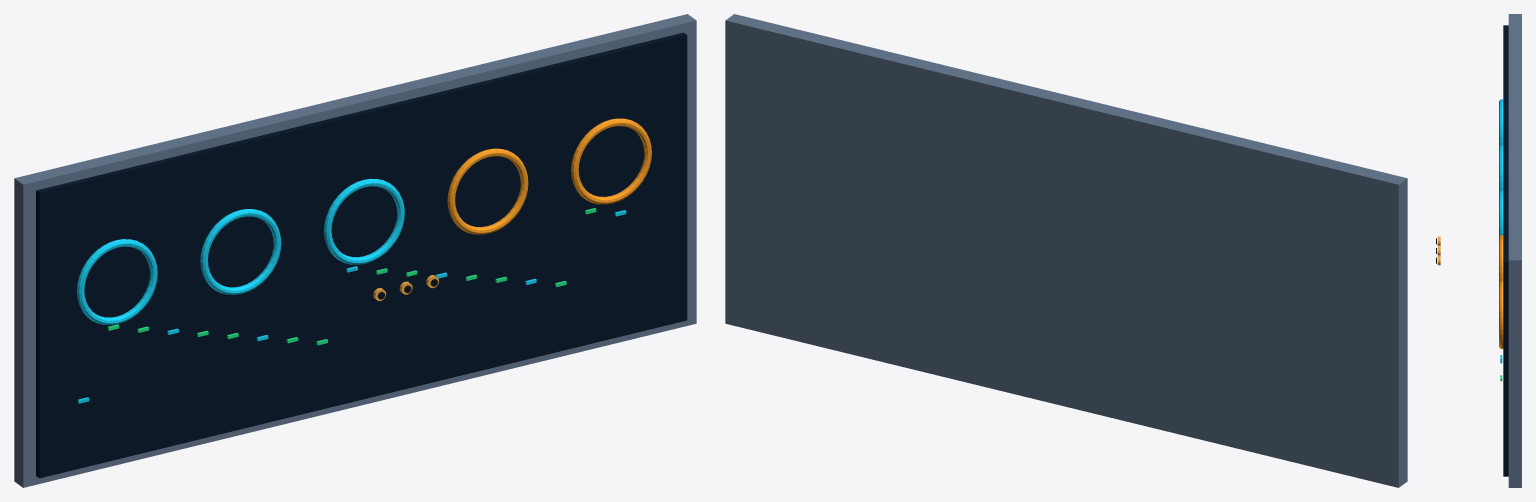
File: 09_L90_MissionControlHologramWall.fbx
3 views of the same model, side by side, from view 1: azimuth 30°, elevation 25°; view 2: azimuth 150°, elevation 25°; view 3: azimuth 270°, elevation 25° (orthographic). The views are drawn at different scales.
Parts seen in each view (by area): view 1: L90_MissionControlHologramWall, L90_MissionControlHologramWall_Part_0002, L90_MissionControlHologramWall_Part_0003; view 2: L90_MissionControlHologramWall; view 3: L90_MissionControlHologramWall, L90_MissionControlHologramWall_Part_0002, L90_MissionControlHologramWall_Part_0003.
Part boxes in pixels (x1,y1,x2,y2): L90_MissionControlHologramWall: (14,14,696,487); L90_MissionControlHologramWall_Part_0002: (76,178,404,324); L90_MissionControlHologramWall_Part_0003: (447,118,651,234); L90_MissionControlHologramWall: (725,14,1407,487); L90_MissionControlHologramWall: (1500,14,1521,487); L90_MissionControlHologramWall_Part_0002: (1499,99,1503,236); L90_MissionControlHologramWall_Part_0003: (1499,235,1503,348).
Size of the model in its own units: 790 by 340 by 116.
